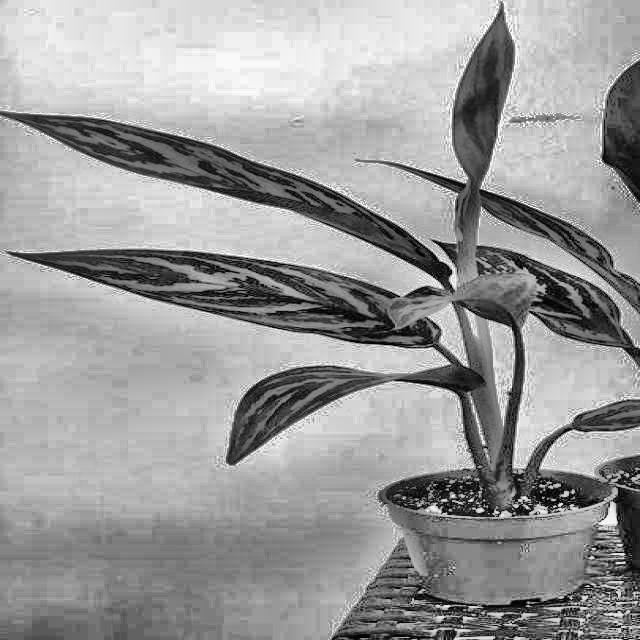plants: (11, 46, 638, 612)
